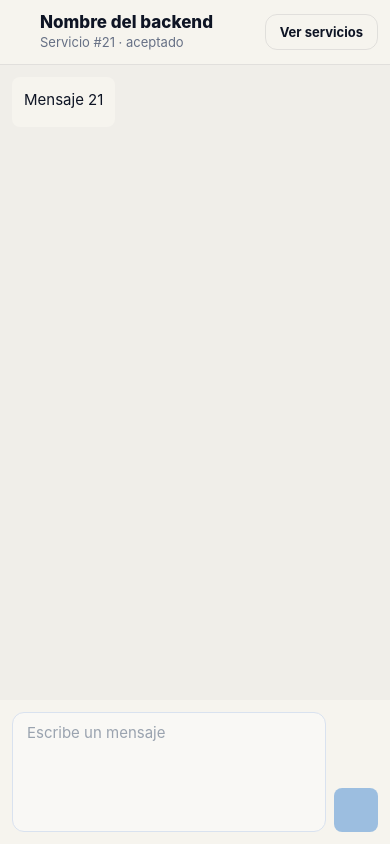
Test: usa nombre y permiso autoritativos y envia solo contenido al contexto
The image size is (390, 844).
Expected: the text "Nombre del backend" is shown, [40,12,213,32]
Step 1. Type "Hola" into the text box with placeholder "Escribe un mensaje" → (169, 742), box [27,723,311,761]
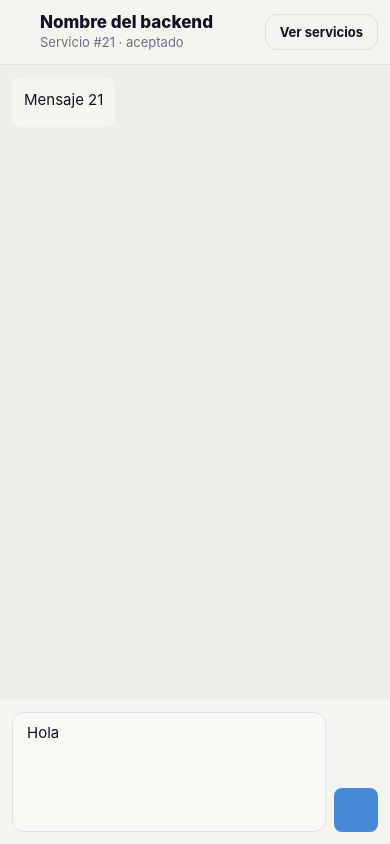
Step 2. Click the button named "Enviar mensaje" → (356, 810), box [334,788,378,832]
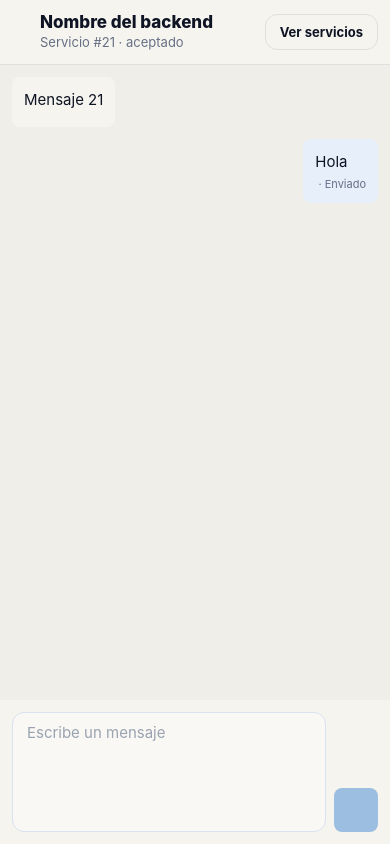
Expected: the text "Hola" is shown, [315,152,348,171]
